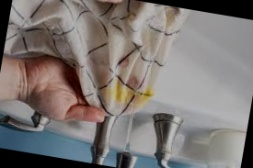mustard: (107, 81, 126, 104), (129, 89, 147, 107)
